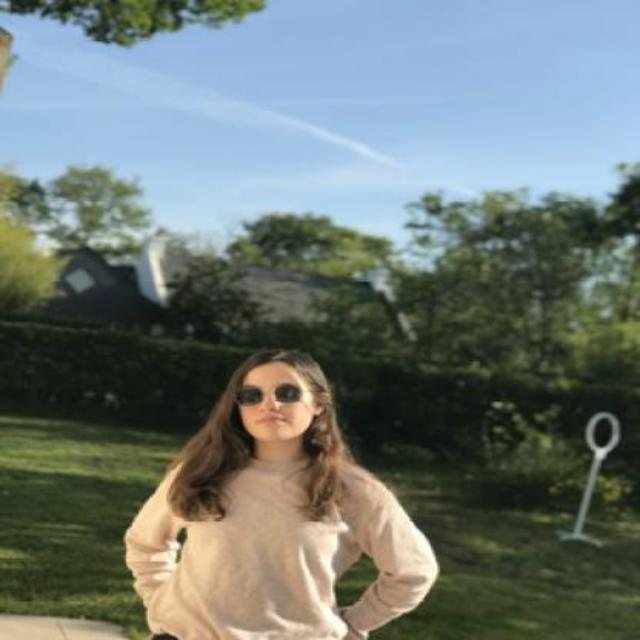glasses: (230, 384, 312, 404)
